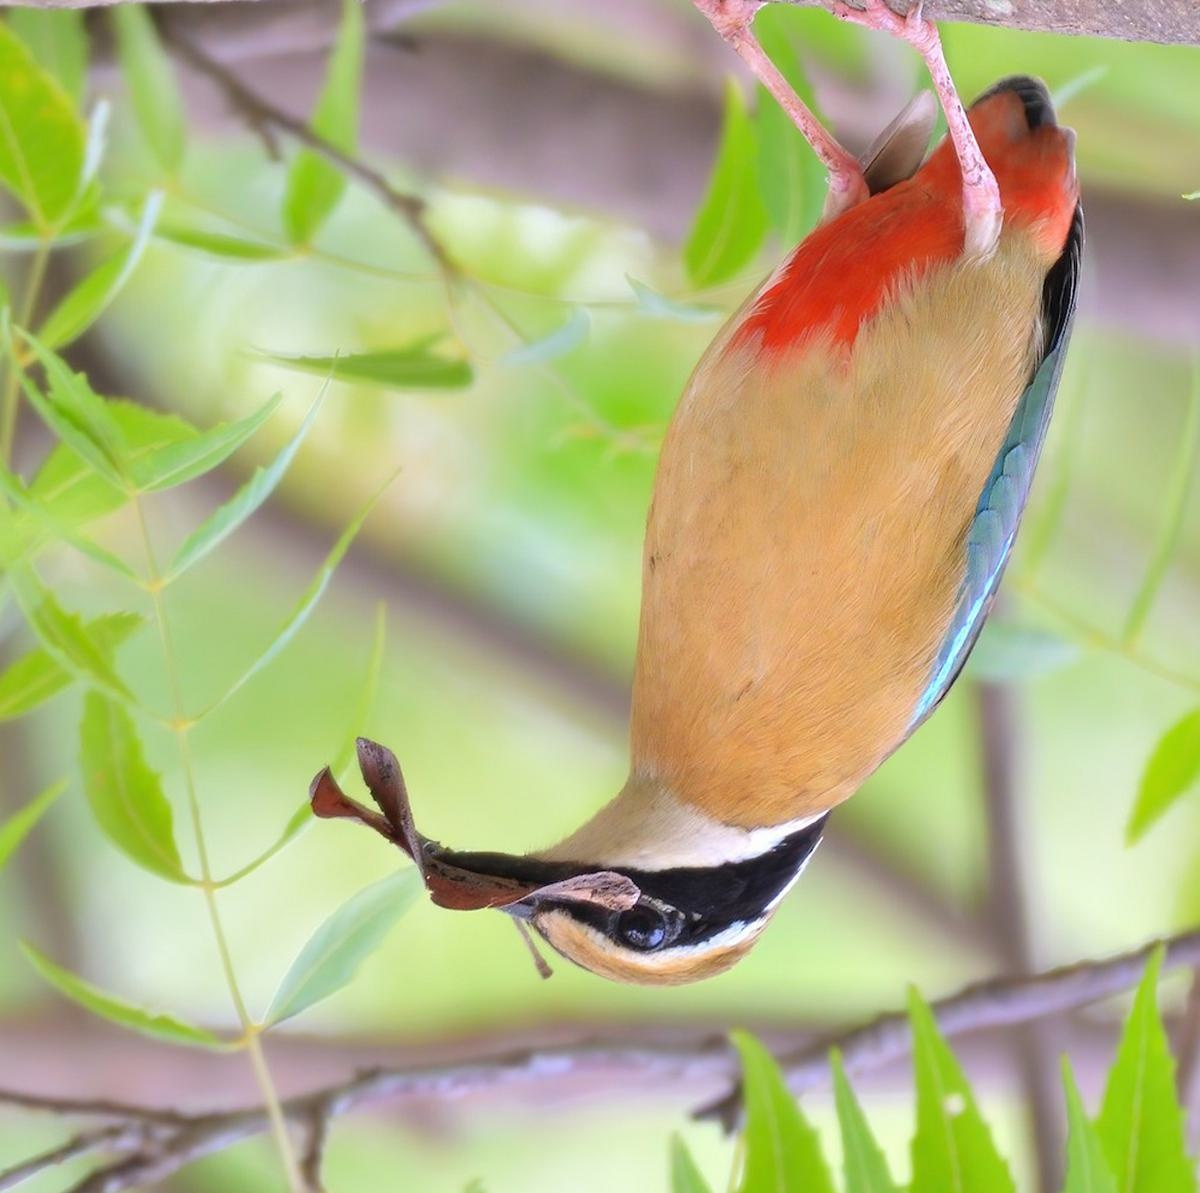pitta: (395, 1, 1168, 1018)
